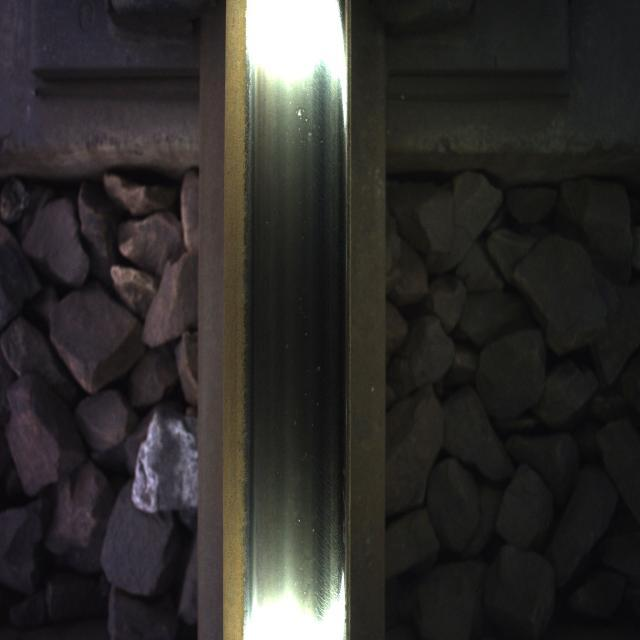break: (250, 28, 346, 608)
